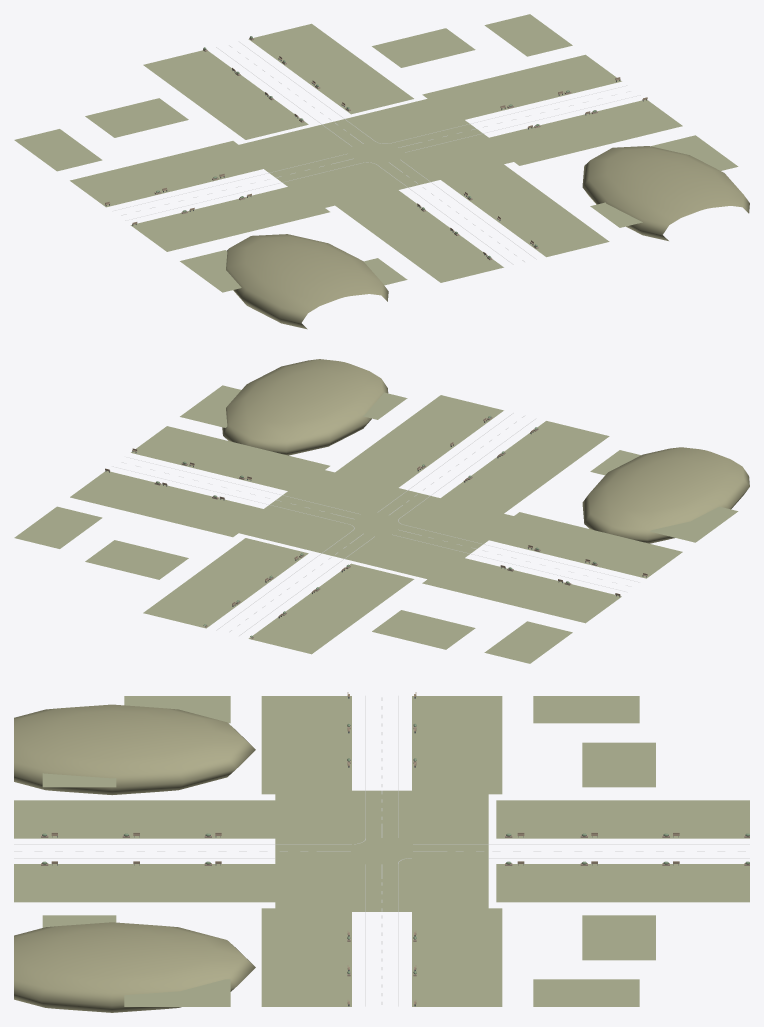
The picture shows the model from 3 angles, top to bottom: view 1: azimuth 30°, elevation 25°; view 2: azimuth 150°, elevation 25°; view 3: azimuth 270°, elevation 25°; orthographic projection. The views are drawn at different scales.
Parts seen in each view (by area): view 1: static; view 2: static; view 3: static.
Part boxes in pixels (bbox=[...]): static: bbox=[14, 14, 749, 329]; static: bbox=[14, 359, 749, 663]; static: bbox=[14, 692, 749, 1012].
Size of what is drawn, in the model's own units: 180 by 14.08 by 180.
